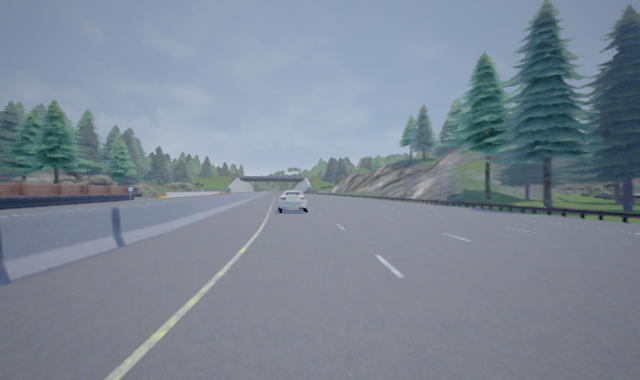vehicle: (278, 190, 308, 213)
